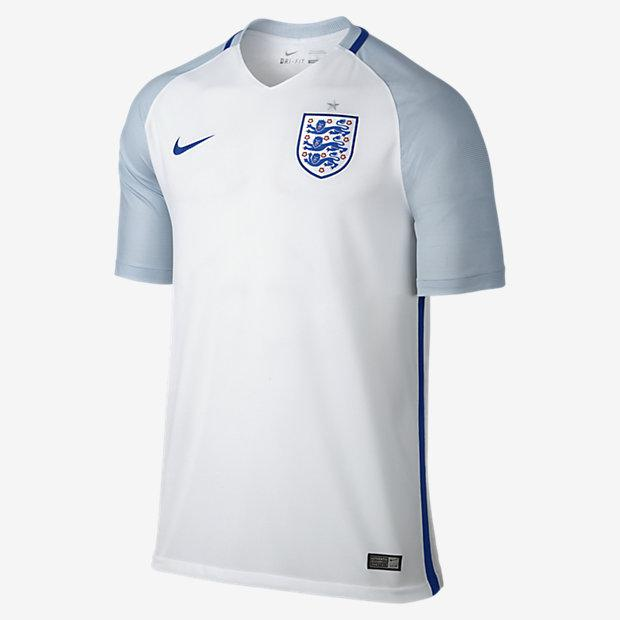teeshirt: (95, 15, 526, 595)
